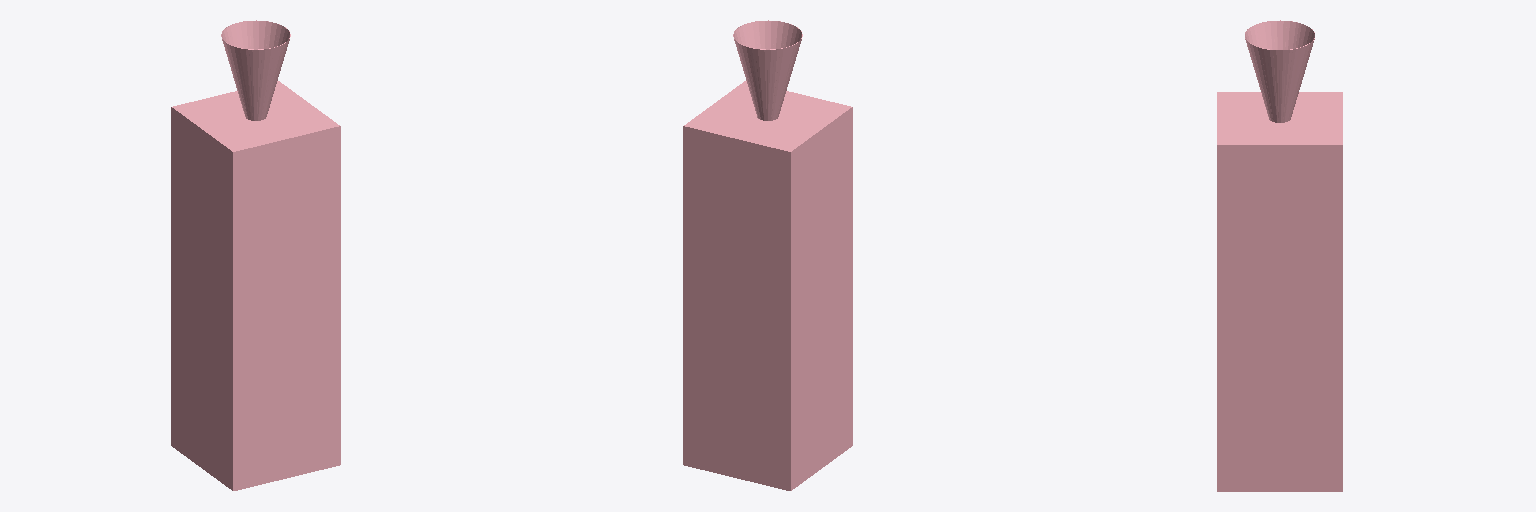
The robot description file, URDF, robot "hopper_long":
<?xml version="1.0" encoding="utf-8"?>
<!-- This URDF was automatically created by SolidWorks to URDF Exporter! Originally created by [author] ([email redacted]) 
     Commit Version: 1.6.0-4-g7f85cfe  Build Version: 1.6.7995.38578
     For more information, please see http://wiki.ros.org/sw_urdf_exporter -->
<robot
  name="hopper_long">
  <link
    name="hopper_long_base_link">
    <inertial>
      <origin
        xyz="0 0 0.92358"
        rpy="0 0 0" />
      <mass
        value="686.2" />
      <inertia
        ixx="215.53"
        ixy="1.1915E-15"
        ixz="2.2567E-15"
        iyy="215.53"
        iyz="-1.0997E-15"
        izz="42.463" />
    </inertial>
    <visual>
      <origin
        xyz="0 0 0"
        rpy="0 0 0" />
      <geometry>
        <mesh
          filename="package://hopper_long/meshes/hopper_long_base_link.STL" />
      </geometry>
      <material
        name="">
        <color
          rgba="1 0.75294 0.796 1" />
      </material>
    </visual>
    <collision>
      <origin
        xyz="0 0 0"
        rpy="0 0 0" />
      <geometry>
        <mesh
          filename="package://hopper_long/meshes/hopper_long_base_link.STL" />
      </geometry>
    </collision>
  </link>
</robot>

--- Render facts (derived) ---
3 views of the same robot in one strip: view 1: azimuth 30°, elevation 25°; view 2: azimuth 150°, elevation 25°; view 3: azimuth 270°, elevation 25° (orthographic).
Model hopper_long with 1 links and 0 joints (none), rooted at hopper_long_base_link, posed all joints at 0.
Links seen in each view (by area): view 1: hopper_long_base_link; view 2: hopper_long_base_link; view 3: hopper_long_base_link.
Link boxes in pixels (box(x1,y1,x2,y2)): hopper_long_base_link: box(171, 20, 340, 490); hopper_long_base_link: box(683, 20, 852, 490); hopper_long_base_link: box(1217, 20, 1342, 491).
Size in the robot's own frame: 0.6096 by 0.6096 by 2.29 metres.
1 mesh visuals loaded from 1 distinct referenced files (1 binary STL).